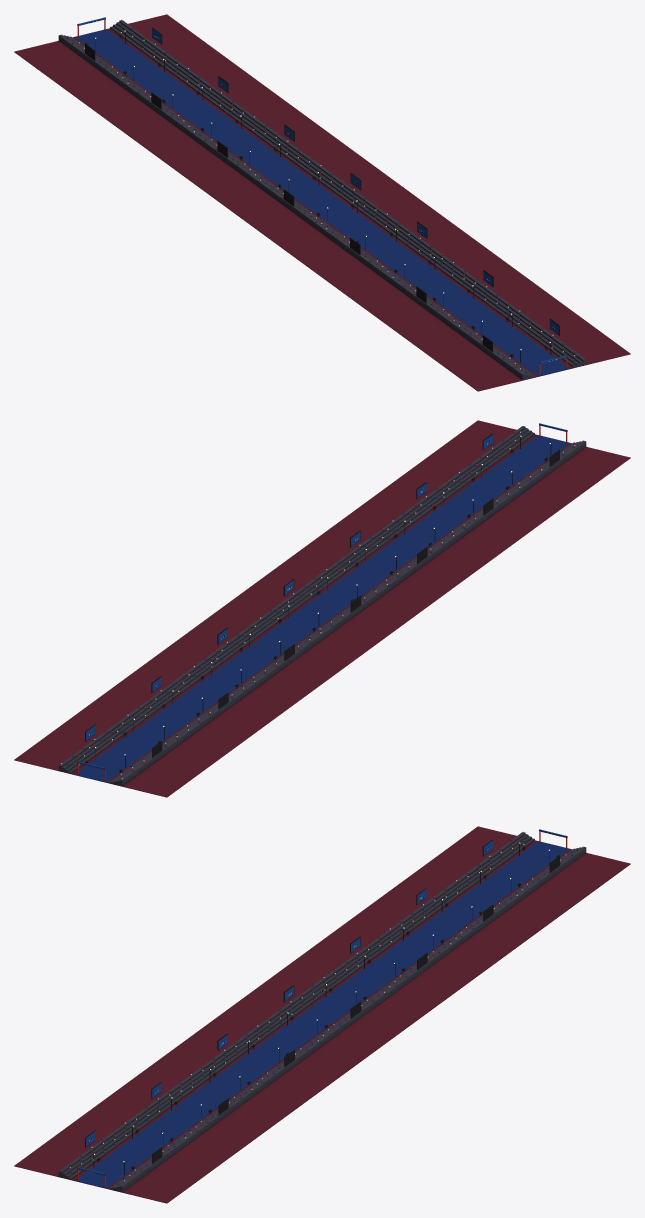
Rendered from estudio_debate.glb.
The picture shows the model from 3 angles, top to bottom: view 1: azimuth 30°, elevation 25°; view 2: azimuth 150°, elevation 25°; view 3: azimuth 330°, elevation 25°; orthographic projection.
Visible parts, largest first — view 1: estudio_debate; view 2: estudio_debate; view 3: estudio_debate.
Boxes of the visible parts, left/top/right/bottom form: estudio_debate: left=14, top=14, right=630, bottom=391; estudio_debate: left=14, top=420, right=630, bottom=797; estudio_debate: left=14, top=826, right=630, bottom=1203.
Bounding box in the file's own units: 80 × 9.21 × 420.
Materials: 1 (1 with a texture image).
